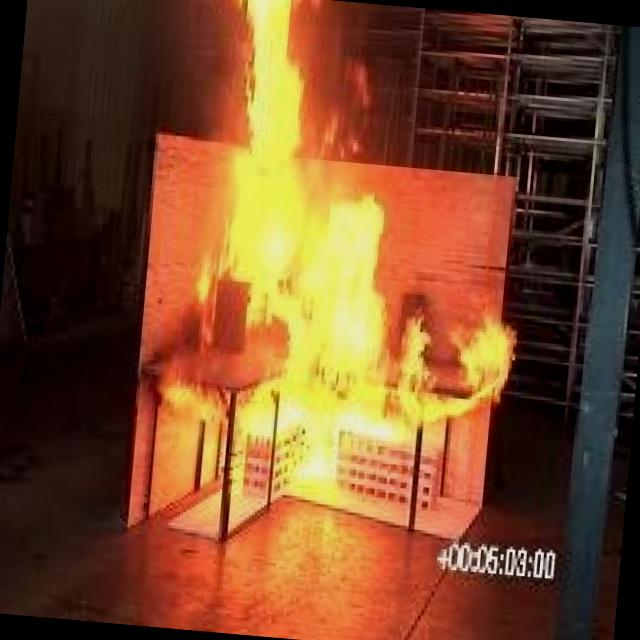fire: (139, 0, 538, 519)
